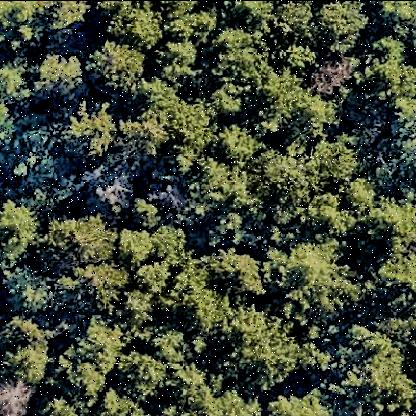tree-top: (215, 306, 296, 396), (332, 323, 405, 416), (135, 89, 217, 168), (169, 261, 229, 357), (266, 67, 336, 145), (359, 34, 416, 129), (281, 234, 349, 310), (182, 148, 254, 217), (1, 2, 91, 55), (53, 259, 131, 317), (249, 153, 313, 221), (41, 212, 115, 270), (222, 38, 278, 113), (86, 35, 154, 95), (1, 312, 52, 389), (205, 246, 275, 302), (57, 347, 110, 416), (73, 318, 131, 380), (66, 96, 118, 160), (33, 52, 90, 106), (311, 2, 368, 56), (370, 242, 416, 306), (184, 381, 266, 416), (100, 5, 168, 47), (113, 347, 165, 400), (307, 137, 360, 188), (5, 262, 55, 316), (1, 197, 39, 268), (366, 194, 416, 246), (139, 321, 195, 366), (161, 1, 221, 42), (209, 118, 259, 167), (270, 2, 320, 48), (113, 223, 159, 272), (147, 218, 190, 268), (155, 41, 205, 83), (305, 196, 353, 237), (309, 56, 355, 98), (226, 1, 277, 38), (89, 386, 147, 416), (119, 284, 159, 326), (267, 392, 336, 416), (1, 375, 37, 416), (1, 59, 35, 100), (139, 259, 175, 297), (377, 1, 416, 35), (136, 192, 166, 224)
